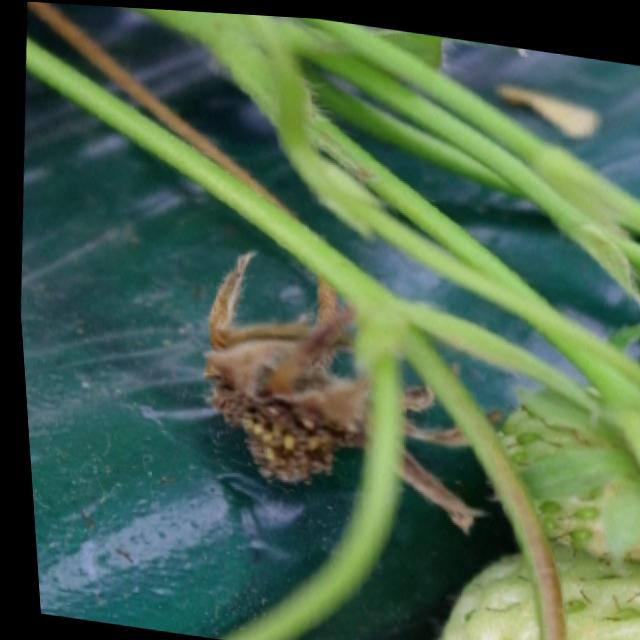Gray Mold: (195, 246, 478, 523)
